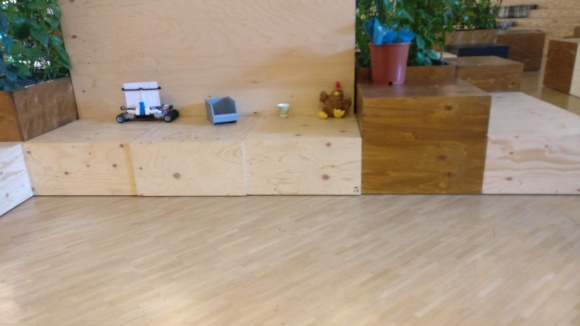car: (116, 80, 179, 124)
chicken: (315, 79, 353, 120)
cup: (276, 100, 290, 119)
tray: (204, 94, 239, 126)
